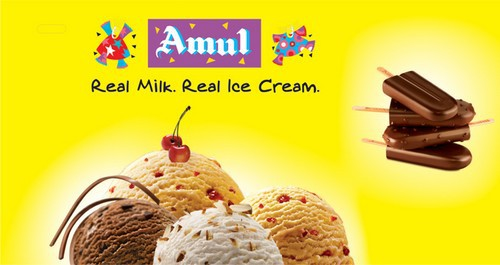Amul: (154, 23, 253, 60)
